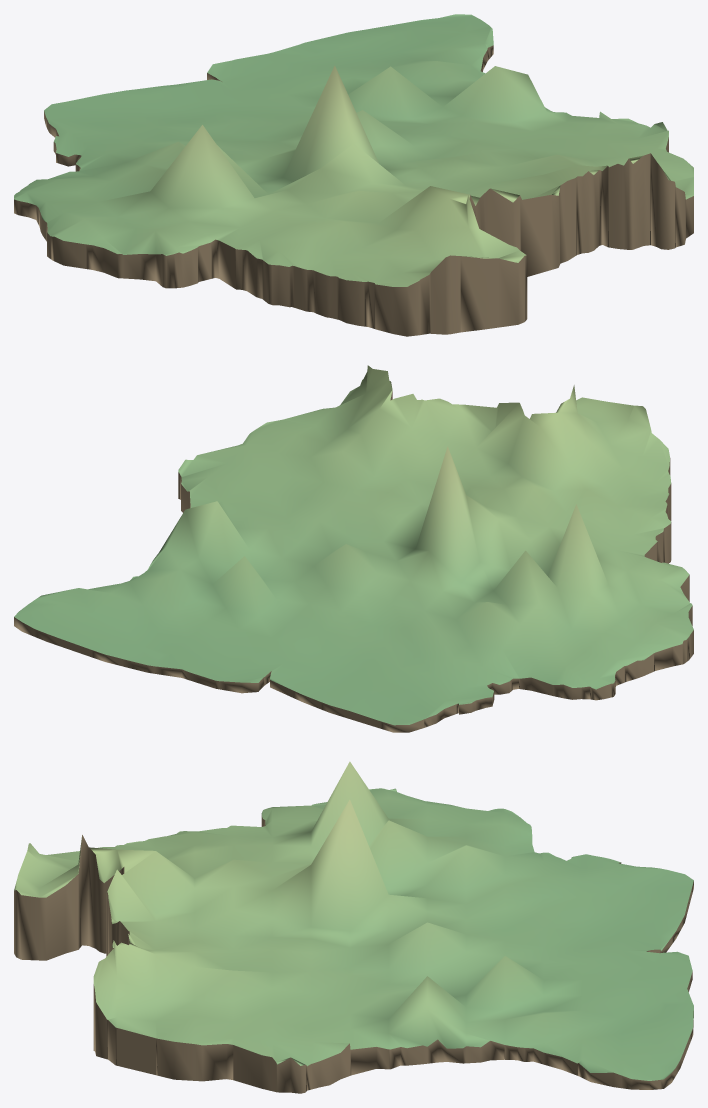
Rendered from SUR.glb.
3 renders of one model, top to bottom at view 1: azimuth 30°, elevation 25°; view 2: azimuth 150°, elevation 25°; view 3: azimuth 270°, elevation 25°, orthographic. The views are drawn at different scales.
Parts seen in each view (by area): view 1: SUR; view 2: SUR; view 3: SUR.
Part boxes in pixels (<box>): SUR: <box>14,14,693,336</box>; SUR: <box>14,365,693,732</box>; SUR: <box>14,761,693,1093</box>.
Bounding box in the file's own units: 1.4 × 0.338 × 1.43.
